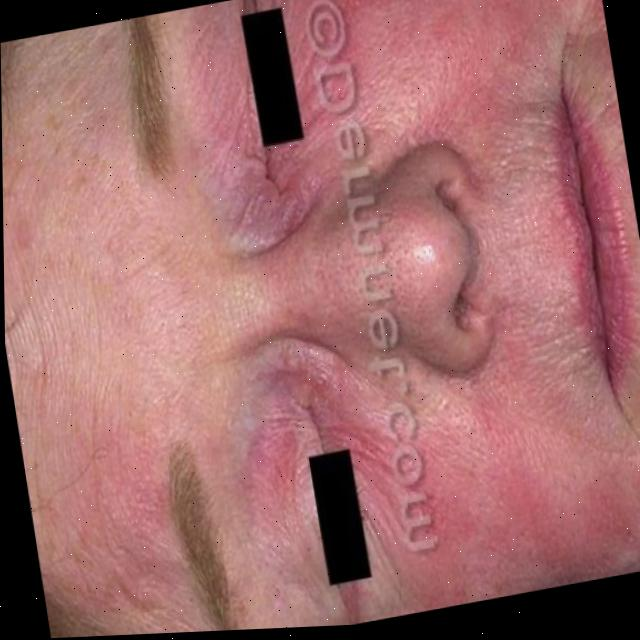Eczema: (88, 0, 640, 636)
